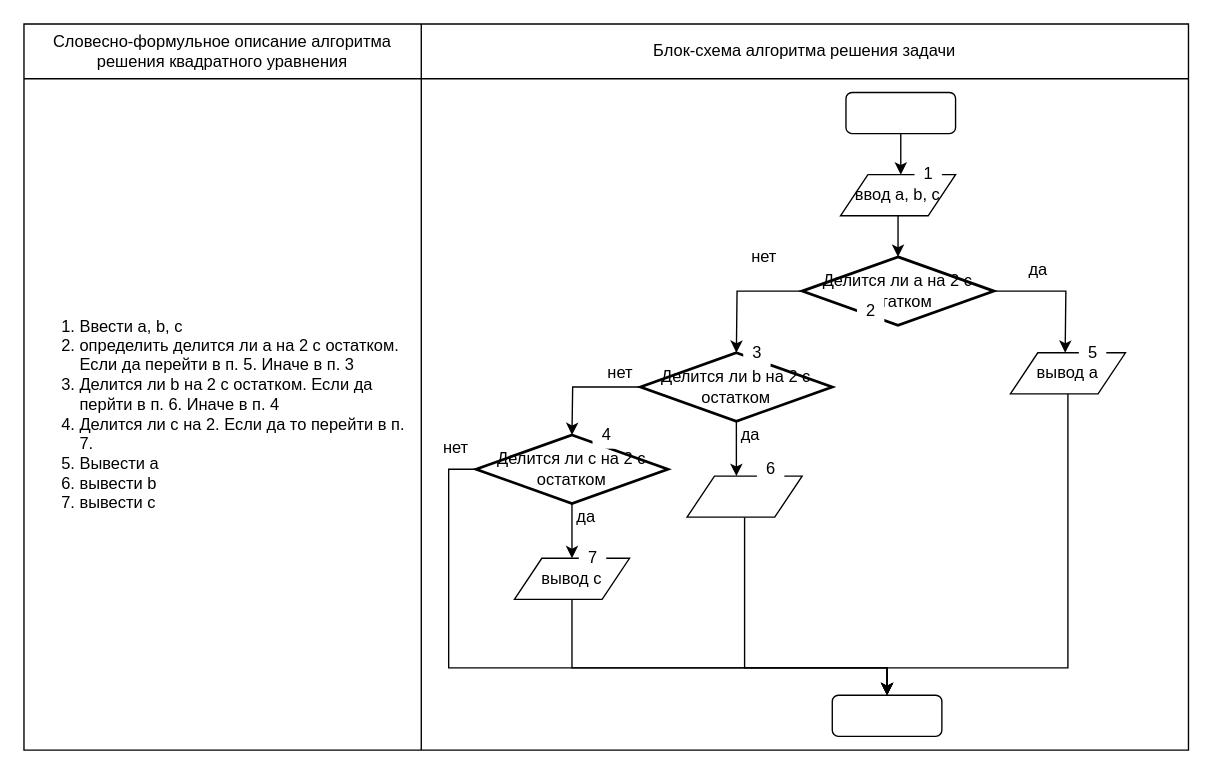
The diagram is 1212 pixels wide and 774 high, and some of its shapes have lost their labels. Each missing label, with the centre of its shape:
"вывод b" goes at [744,496].
"конец" goes at [886,715].
"начало" goes at [900,112].
